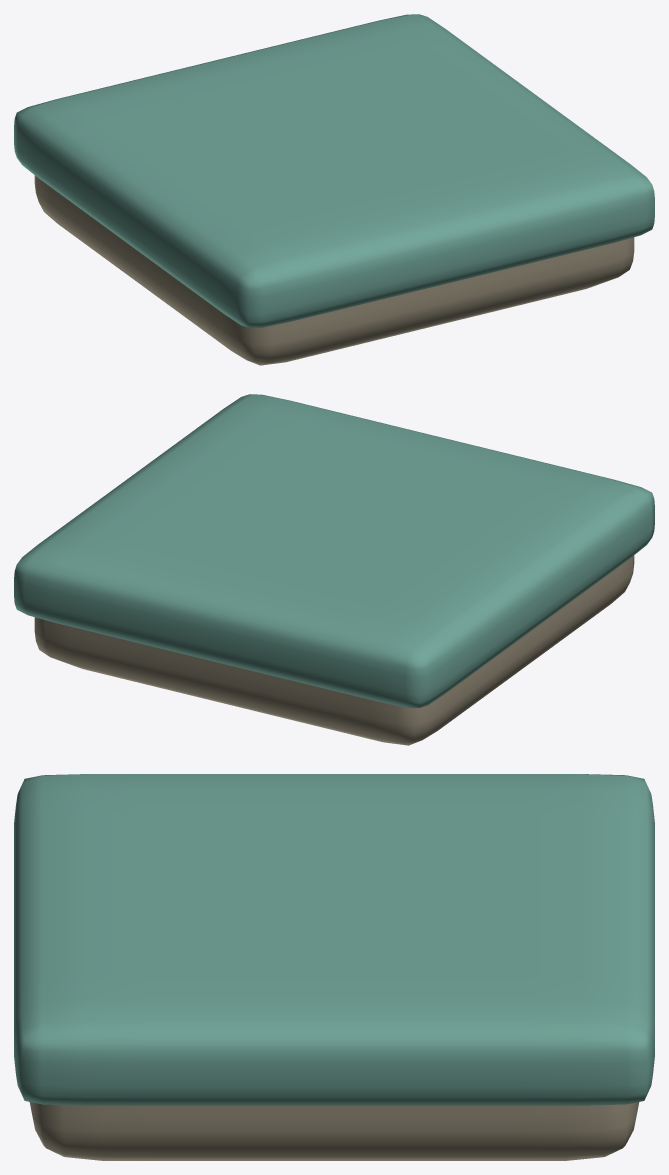
File: ground.glb
The picture shows the model from 3 angles, top to bottom: view 1: azimuth 30°, elevation 25°; view 2: azimuth 150°, elevation 25°; view 3: azimuth 270°, elevation 25°; orthographic projection. The views are drawn at different scales.
Visible parts, largest first — view 1: ground; view 2: ground; view 3: ground.
Boxes of the visible parts, x1,y1,x2,y2 form: ground: (14, 14, 654, 365); ground: (14, 394, 654, 745); ground: (14, 774, 654, 1160).
Size of the model in its own units: 3.58 by 0.9636 by 3.58.
Materials: 1 (1 with a texture image).
